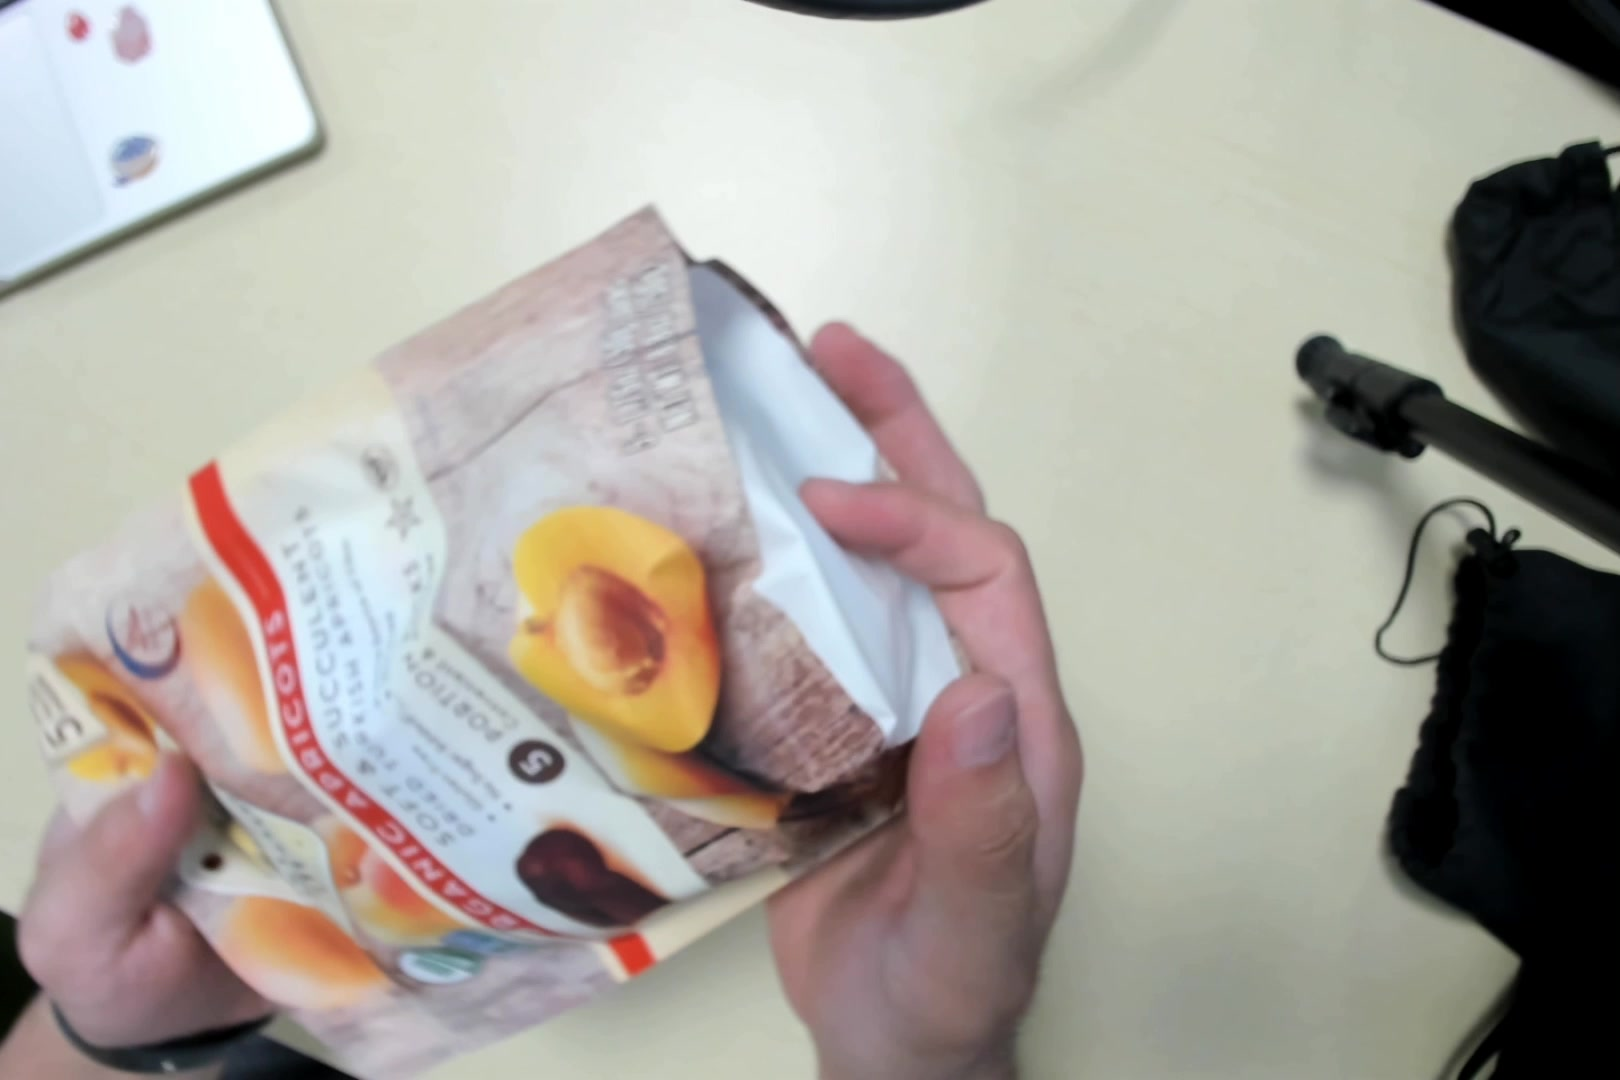DriedFood_0-99g_Halal_NonHealthy: (35, 231, 984, 1080)
